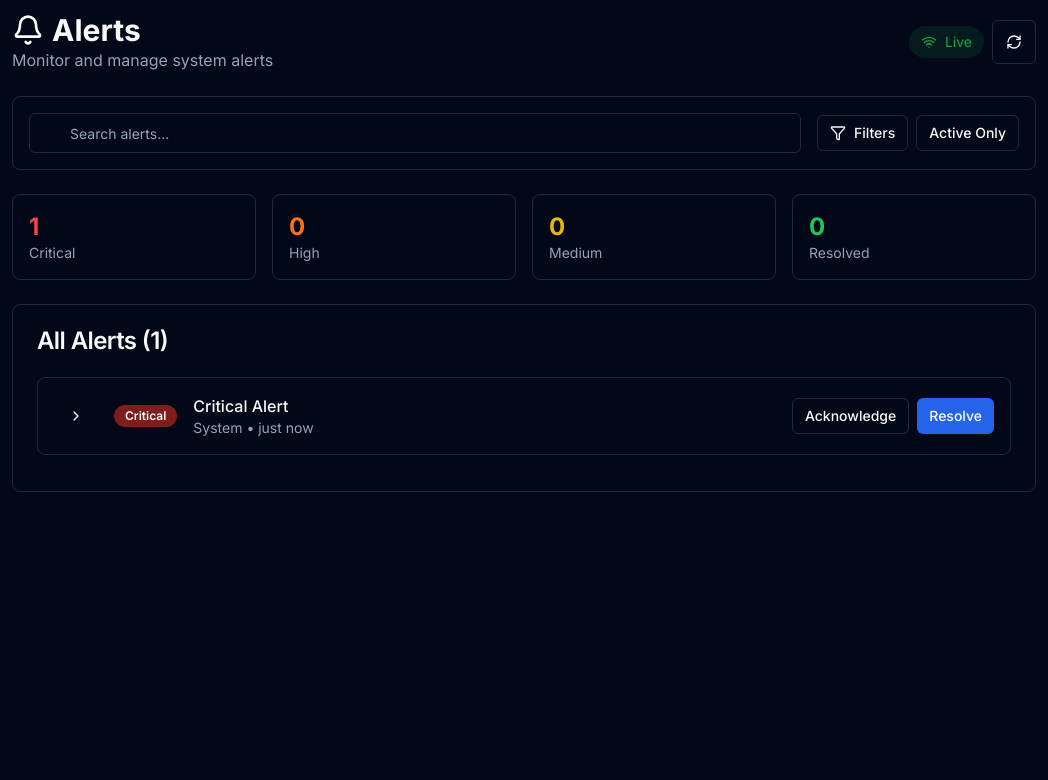
AlertsPage › should allow filtering by severity
Click the button "Filters" at (863,133), box [817,115,908,151]
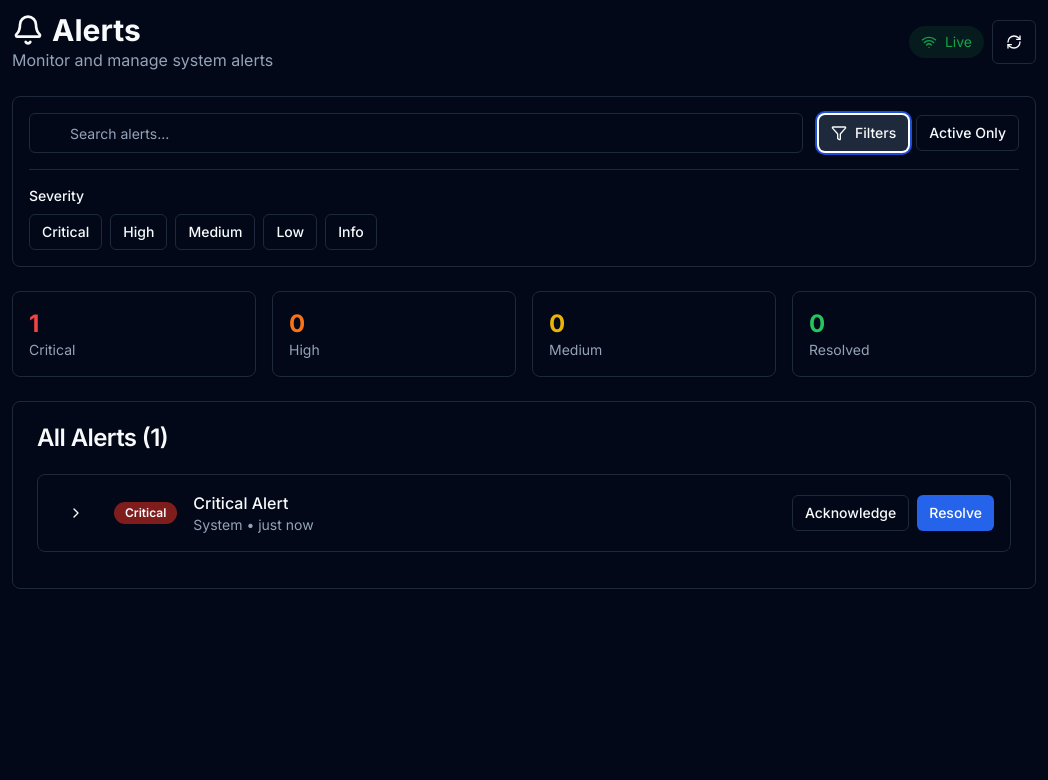
expect the text "Severity" is shown: met, box [29,187,84,204]
